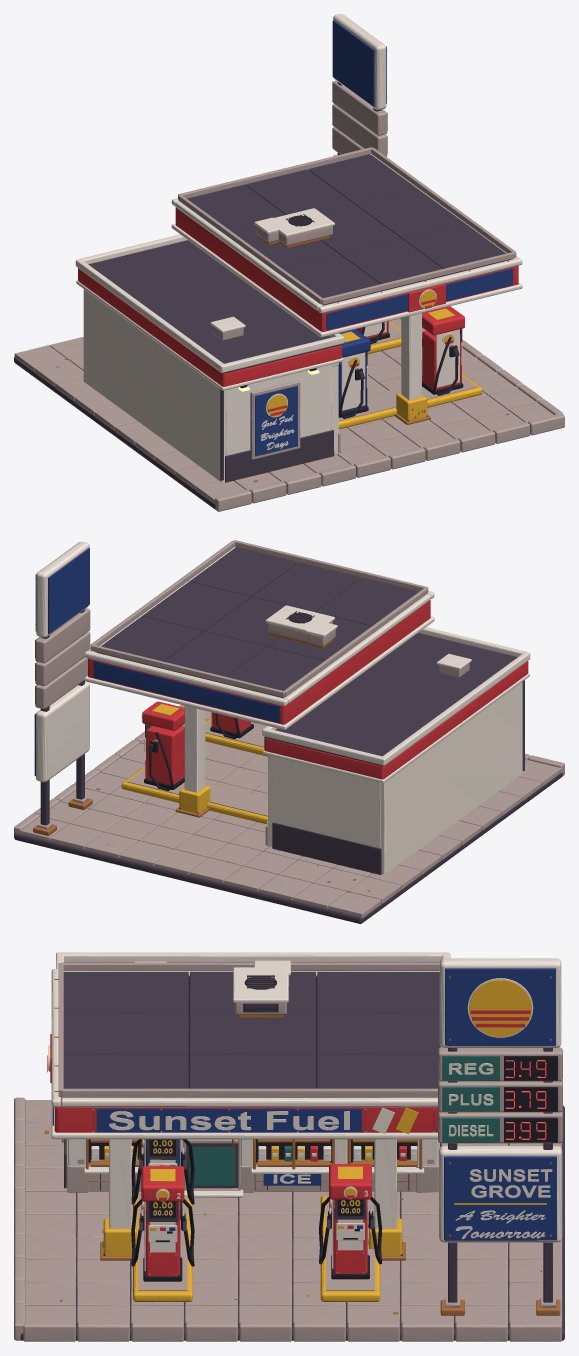
File: bld.gas-station.glb
3 renders of one model, top to bottom at view 1: azimuth 30°, elevation 25°; view 2: azimuth 150°, elevation 25°; view 3: azimuth 270°, elevation 25°, orthographic. The views are drawn at different scales.
Bounding box in the file's own units: 10.34 × 7.69 × 10.51.
